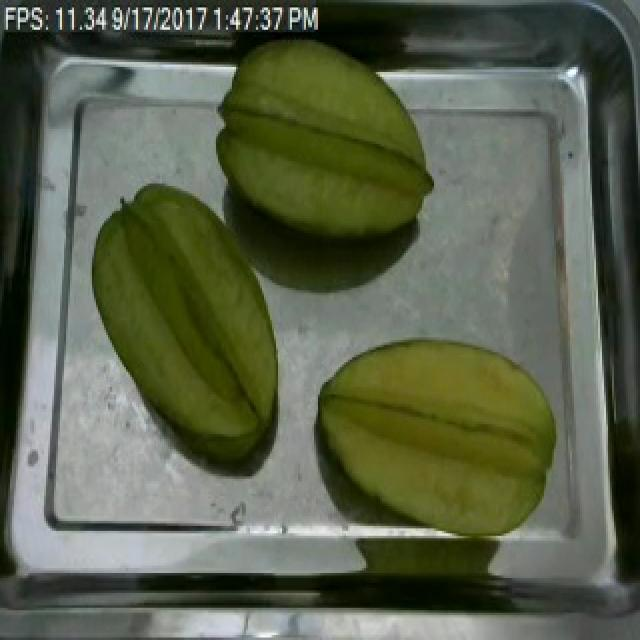fruit: (78, 174, 292, 452), (304, 328, 568, 548), (204, 30, 446, 253)
